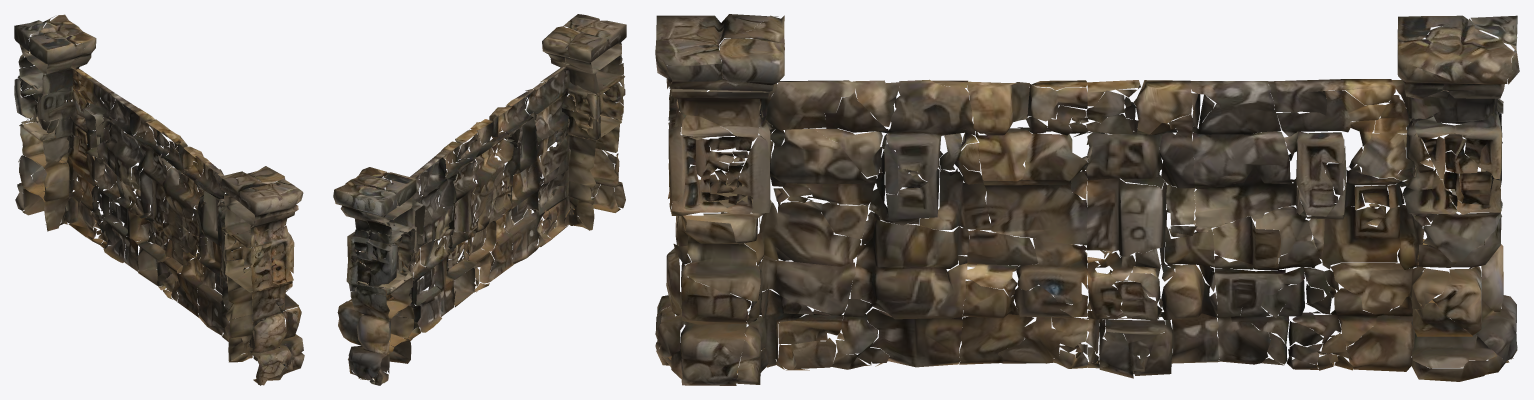
File: arch_wall_vaelor_LOD1.glb
3 views of the same model, side by side, from view 1: azimuth 30°, elevation 25°; view 2: azimuth 150°, elevation 25°; view 3: azimuth 270°, elevation 25° (orthographic). The views are drawn at different scales.
Parts seen in each view (by area): view 1: tripo_node_d9f77c95-5727-4263-9154-96b5edb6edef; view 2: tripo_node_d9f77c95-5727-4263-9154-96b5edb6edef; view 3: tripo_node_d9f77c95-5727-4263-9154-96b5edb6edef.
Part boxes in pixels (box(x1,y1,x2,y2)): tripo_node_d9f77c95-5727-4263-9154-96b5edb6edef: box(14, 14, 304, 385); tripo_node_d9f77c95-5727-4263-9154-96b5edb6edef: box(333, 14, 626, 385); tripo_node_d9f77c95-5727-4263-9154-96b5edb6edef: box(655, 14, 1519, 385).
Bounding box in the file's own units: 0.1507 × 0.4229 × 1.
Materials: 1 (1 with a texture image).
